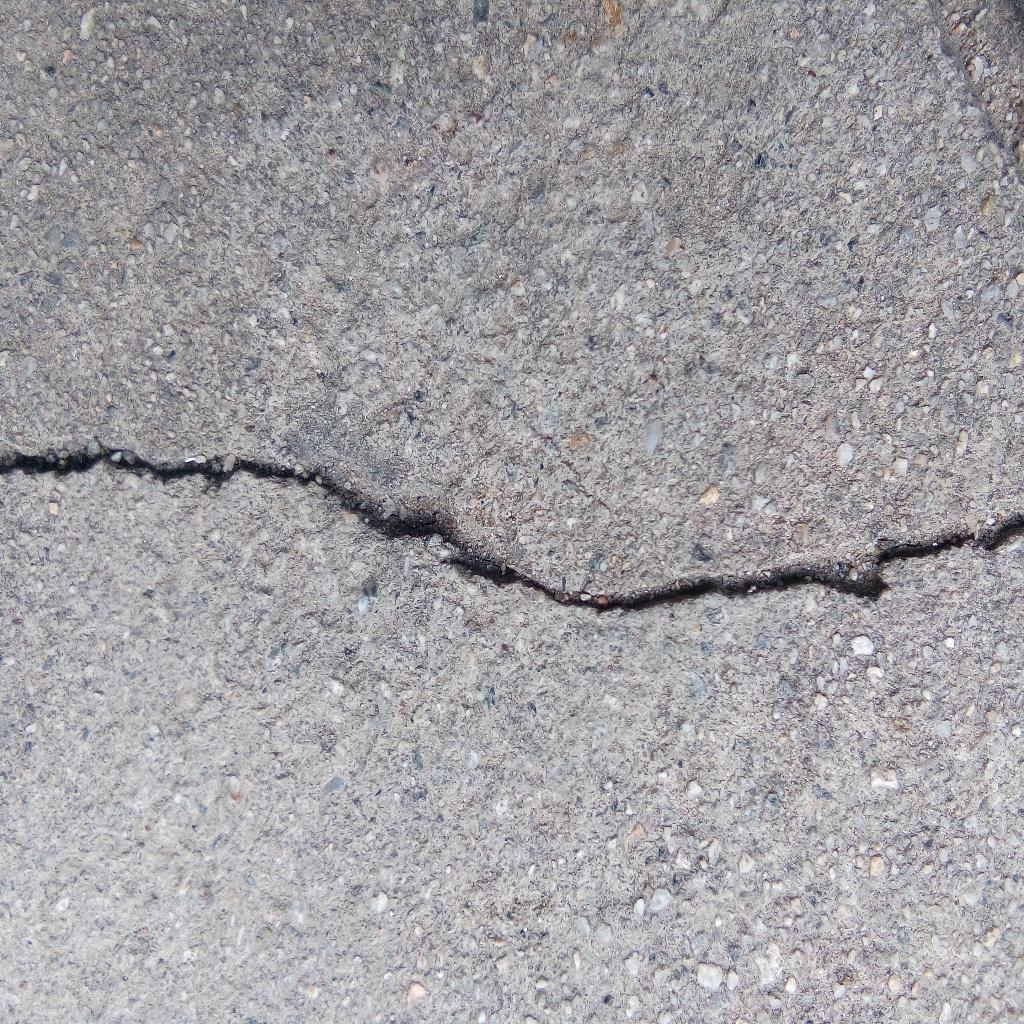Crack: (1, 446, 1024, 616)
